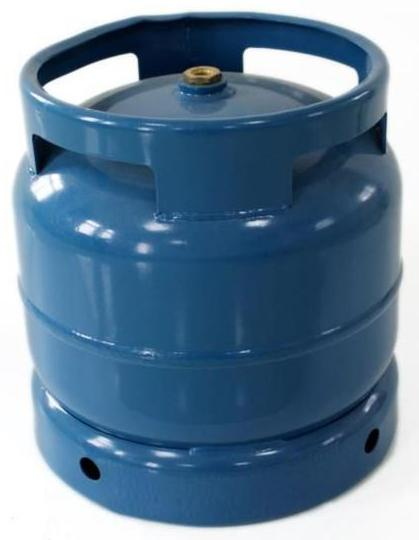cylinder: (1, 1, 419, 540)
